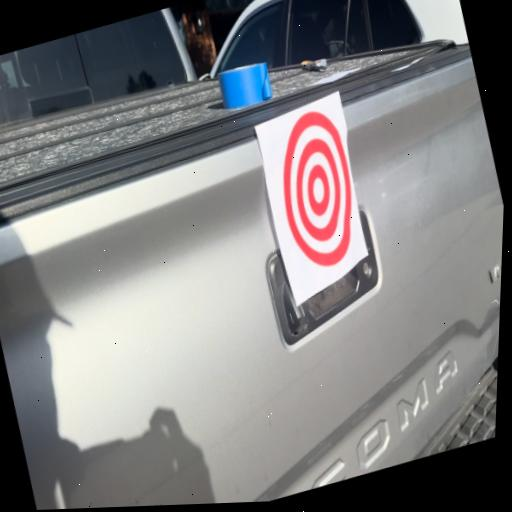bullseye: (263, 105, 374, 275)
